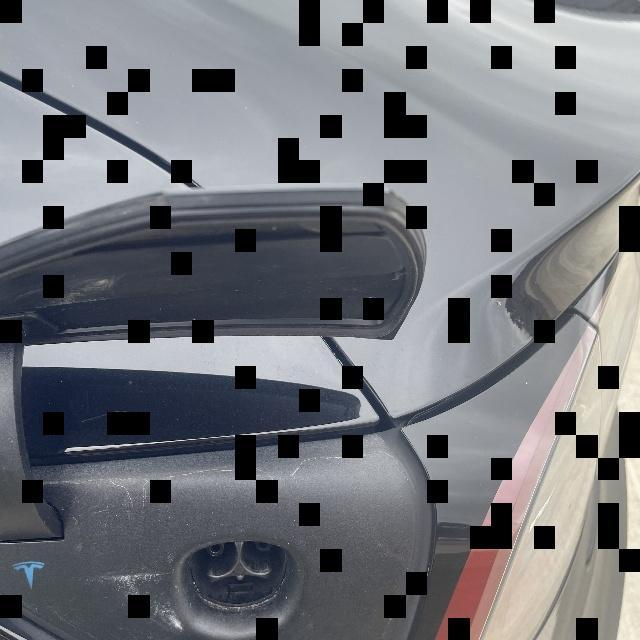Tesla Model-S-: (169, 529, 310, 633)
